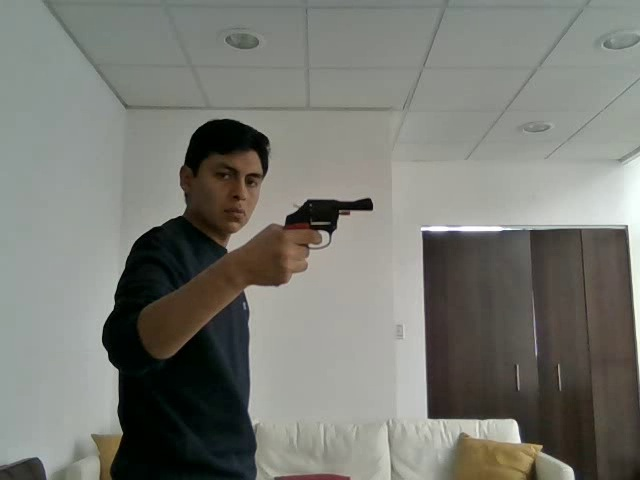pistola: (275, 179, 391, 257)
